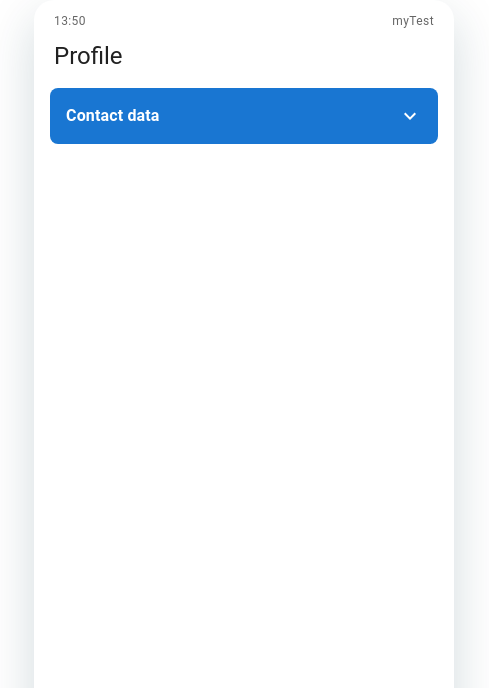
Test: ContactScreen › loads phone and email, then saves a valid email address
Click the button "Contact data" at [113, 115], box [50,88,438,144]
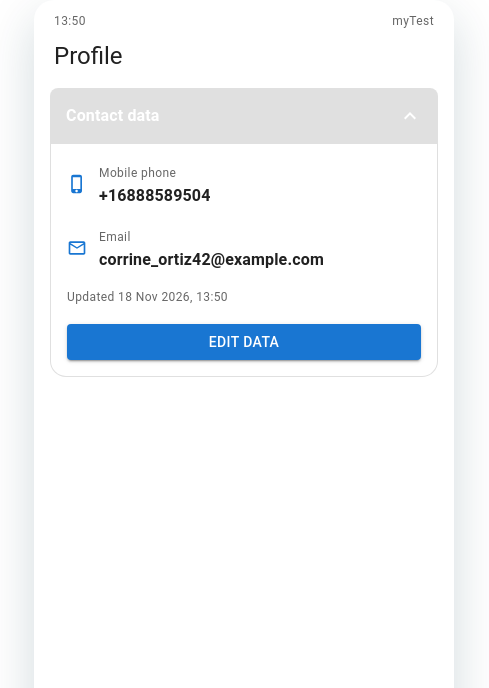
Result: the text with test id "contact-email" shows "@" at [99,248,324,272]
Click the button "Edit data" at [244, 342], box [67,324,421,360]
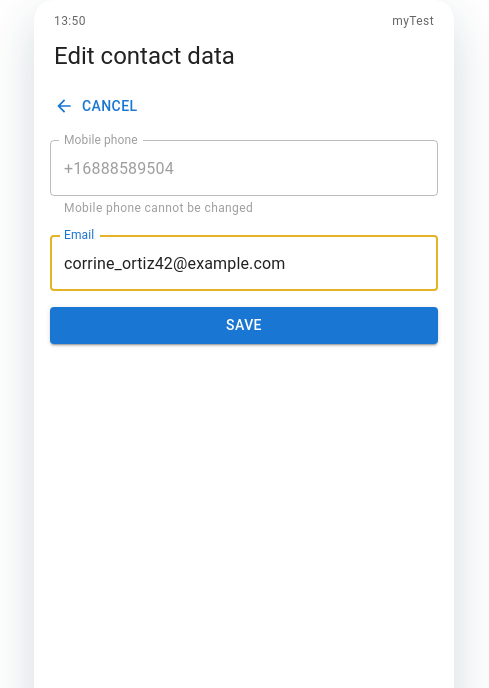
Result: the field labelled "Mobile phone" is disabled at [50,140,438,196]
Replace the text in the field labelled "Email" with "not-an-email" at [244, 263], box [50,235,438,291]
Click the button "Save" at [244, 326], box [50,307,438,344]
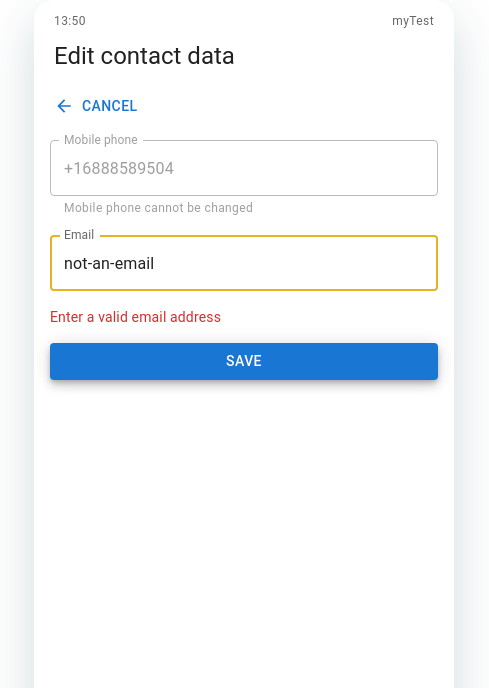
Result: the message reads "Enter a valid email address" at [50,309,221,325]
Click the button "Cancel" at [98, 106], box [50,88,146,124]
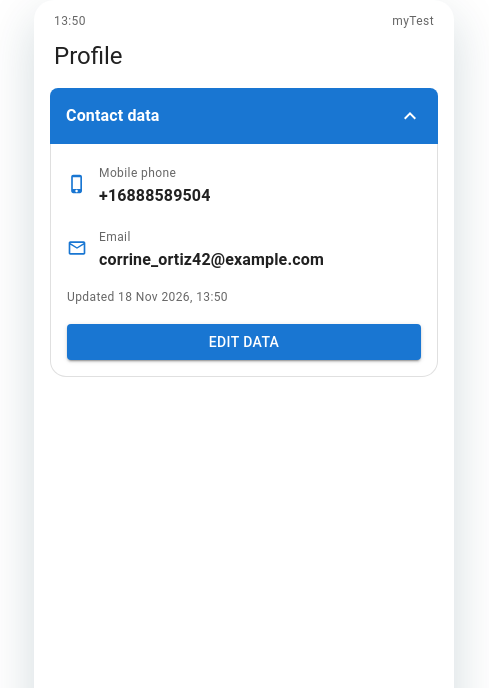
Click the button "Edit data" at [244, 342], box [67,324,421,360]
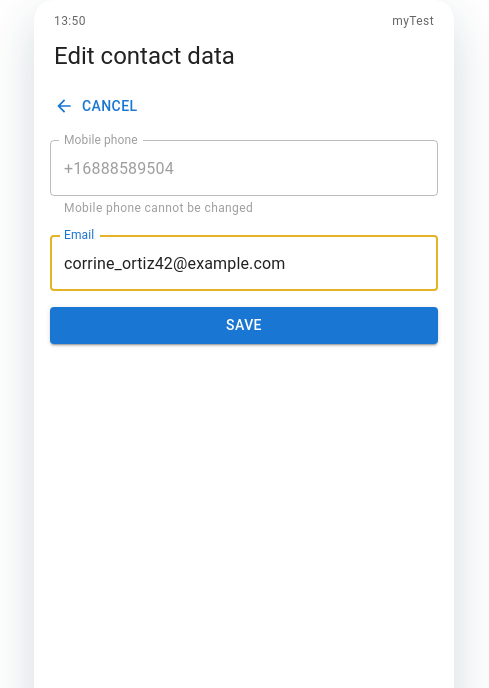
Replace the text in the field labelled "Email" with "updated.user@example.com" at [244, 263], box [50,235,438,291]
Click the button "Save" at [244, 326], box [50,307,438,344]
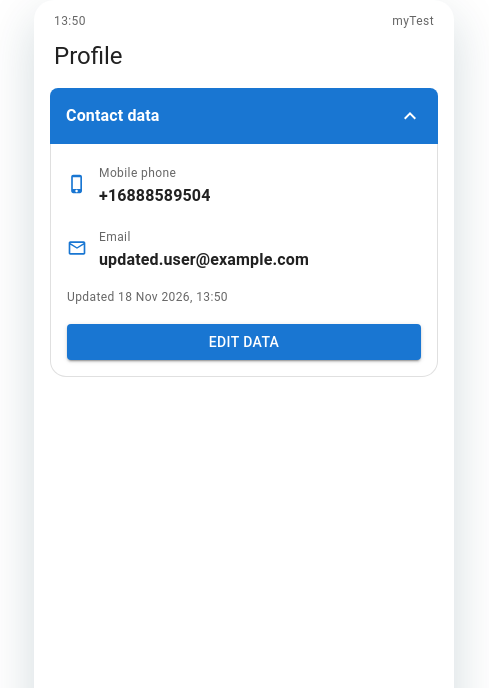
Result: the text with test id "contact-email" reads "updated.user@example.com" at [99,250,309,269]
Result: the button "Save" is gone
